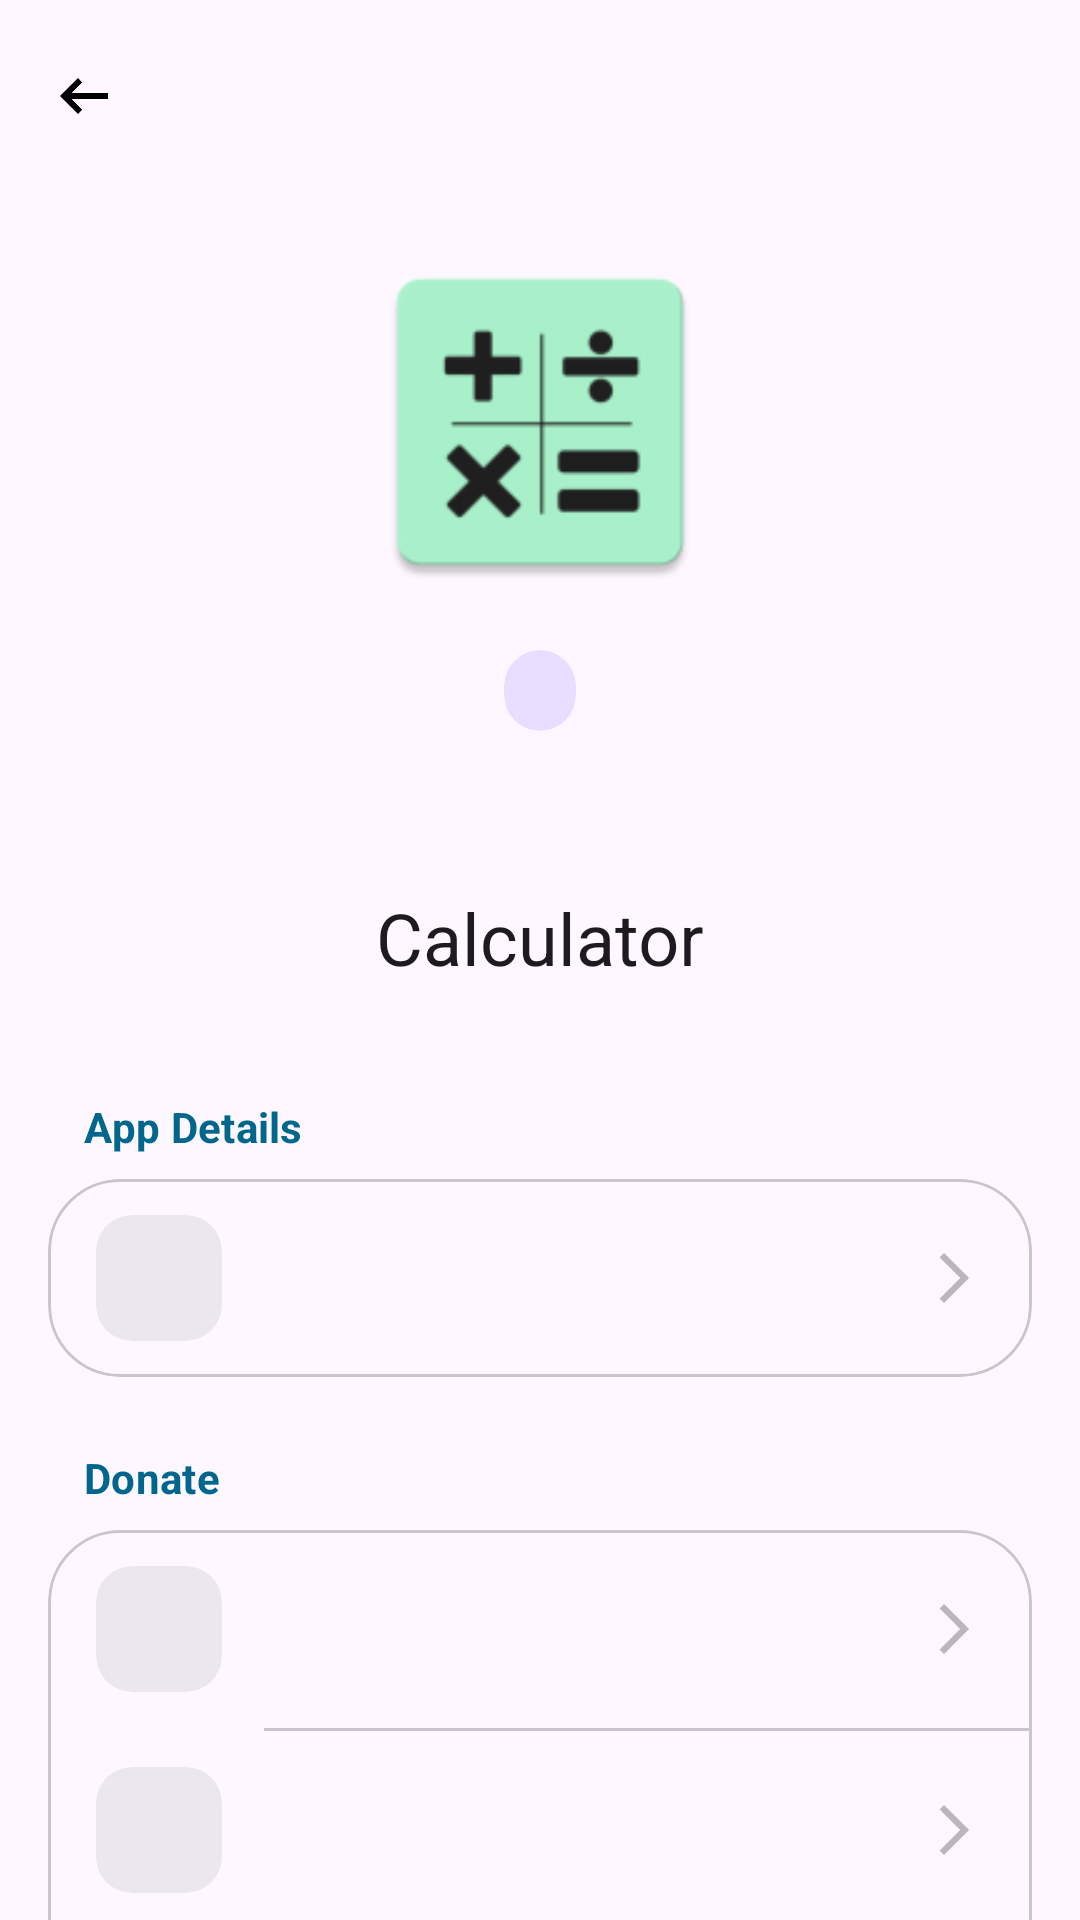

Where to tap for icons on this 1080*1920 app screen, as [x,y]:
arrow forward: [954,1278], [954,1629], [954,1830]
